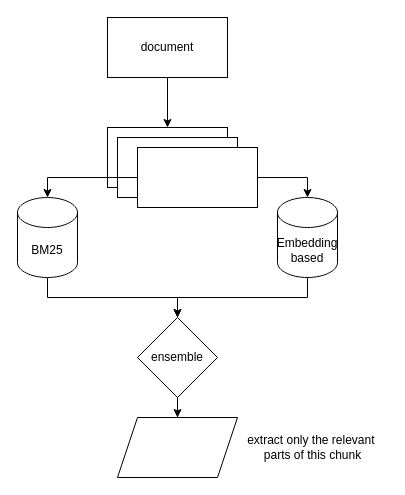
The diagram is 405 pixels wide and 495 high, and some of its shapes have lost their labels. The shapes that lost their labels are listed below. From the top down, each one's centre as x and y in pixels, then its label:
point (197, 177): Chunks
point (177, 447): LLM based extraction
